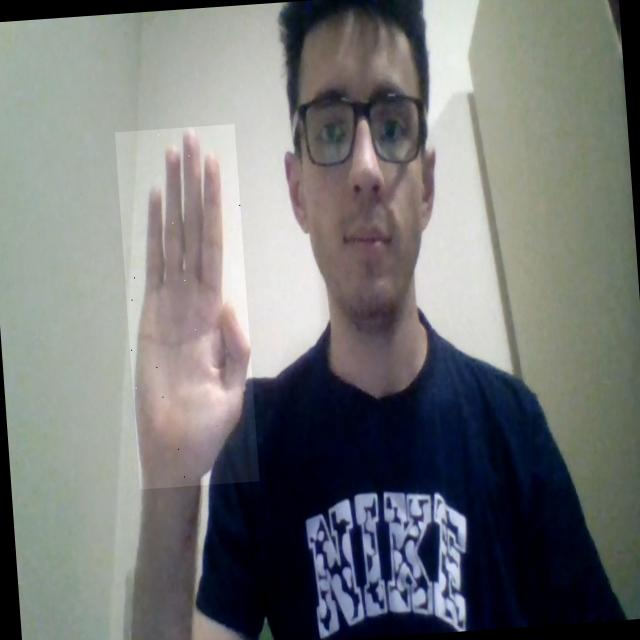hello: (114, 124, 259, 489)
